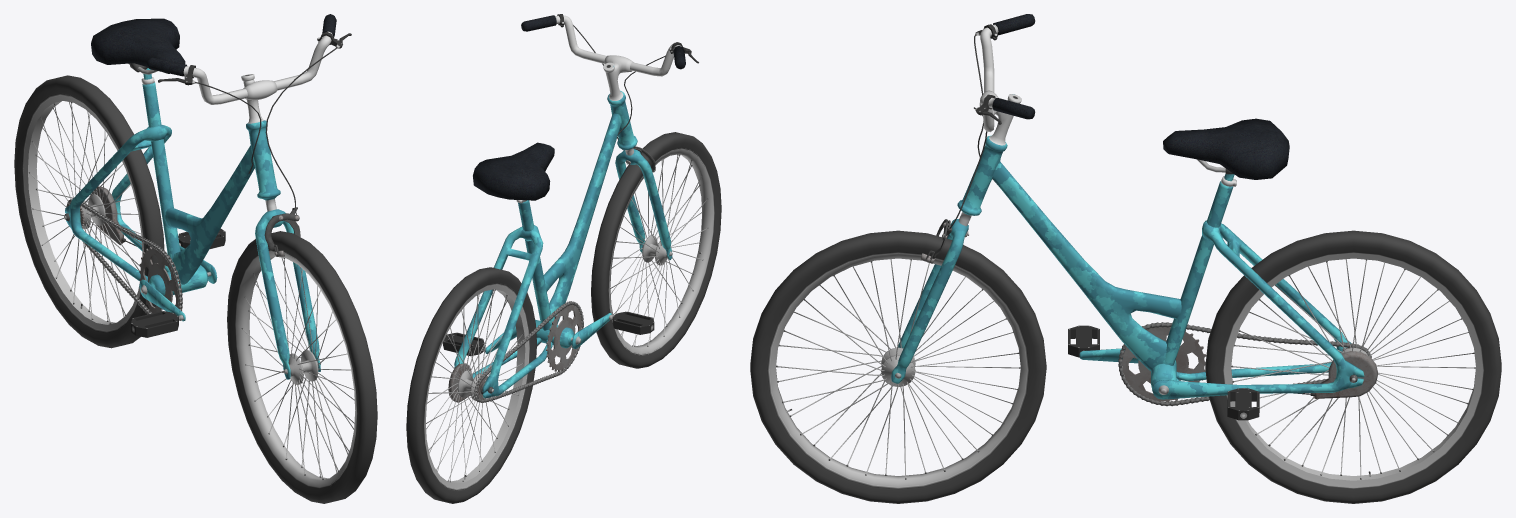
The model's file is bicycle.glb.
3 views of the same model, side by side, from view 1: azimuth 30°, elevation 25°; view 2: azimuth 150°, elevation 25°; view 3: azimuth 270°, elevation 25° (orthographic). The views are drawn at different scales.
Visible parts, largest first — view 1: bicycle; view 2: bicycle; view 3: bicycle.
Part boxes in pixels (box(x1,y1,x2,y2)): bicycle: box(14, 14, 377, 503); bicycle: box(406, 14, 721, 503); bicycle: box(750, 14, 1501, 503).
Size of the model in its own units: 0.7976 by 1.62 by 2.5.
Materials: 1 (1 with a texture image).
